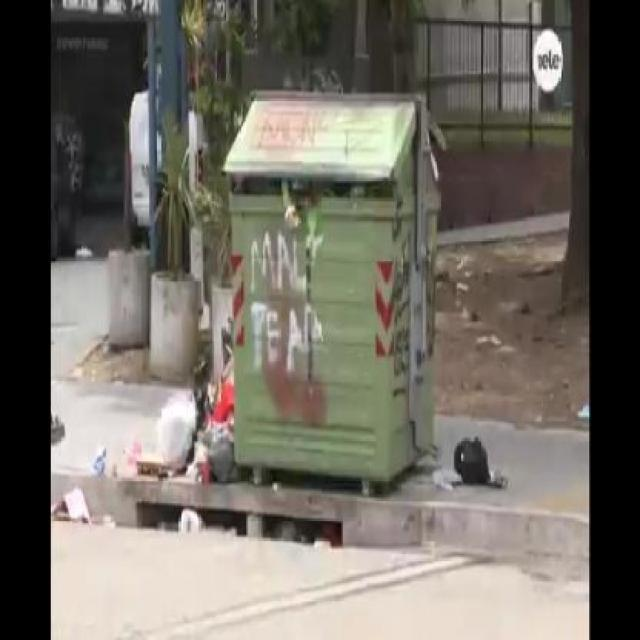garbage: (53, 368, 253, 537), (433, 412, 506, 496), (246, 183, 374, 228)
